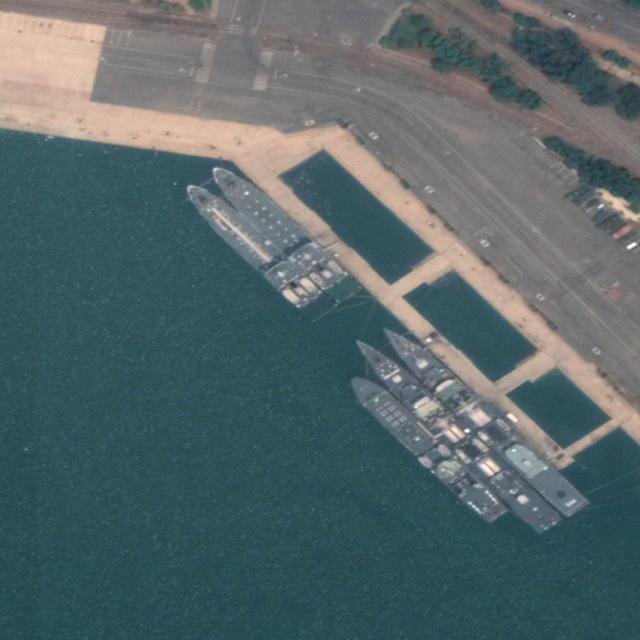Frigate: (374, 314, 592, 522), (345, 330, 563, 537)
Landing: (202, 156, 362, 308), (178, 177, 333, 324)
Other Warship: (341, 365, 511, 530)
